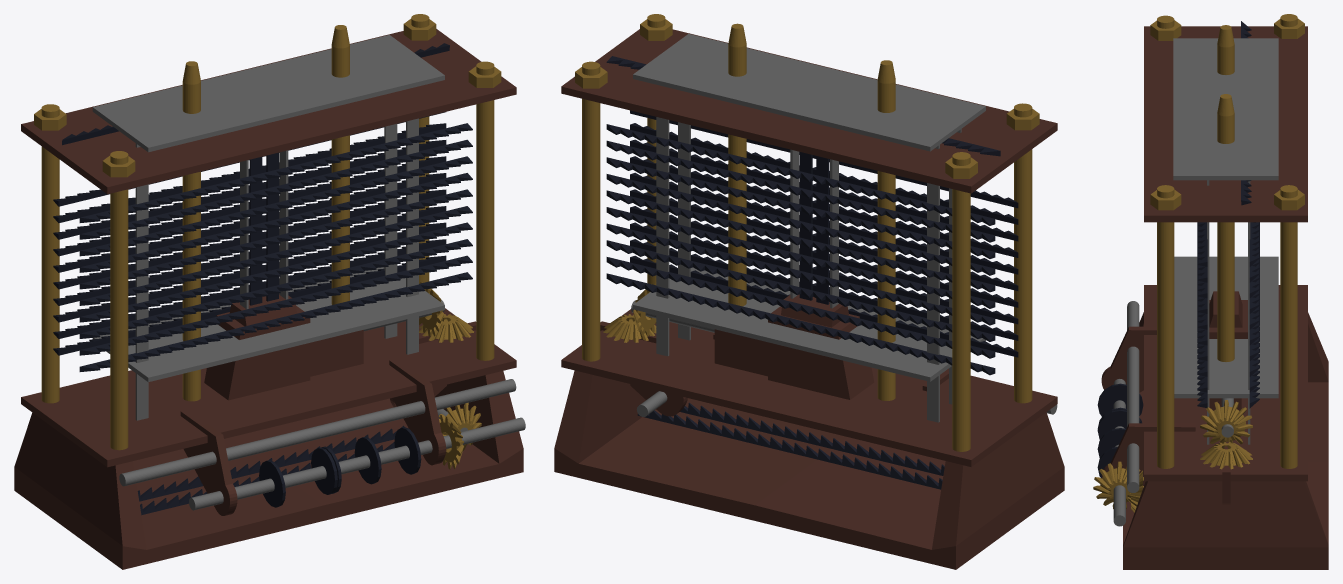
The model's file is AnalyticalEngine.fbx.
The picture shows the model from 3 angles, left to right: view 1: azimuth 30°, elevation 25°; view 2: azimuth 150°, elevation 25°; view 3: azimuth 270°, elevation 25°; orthographic projection. The views are drawn at different scales.
Parts seen in each view (by area): view 1: Cube, Plane.001, Cube.001, Plane, Cube.002, Cube.004, Cube.009, Cube.008, Cylinder.009, Cylinder.001, Cylinder, Cylinder.011 (+18 smaller); view 2: Cube, Plane, Cube.001, Plane.001, Cube.002, Cube.004, Cube.009, Cube.008, Cylinder.010, Cylinder.011, Cylinder.009, Cylinder.012 (+14 smaller); view 3: Cube, Cube.002, Cube.004, Cube.001, Cube.009, Cylinder.001, Cylinder.010, Gear.001, Cylinder.003, Plane.001, Cylinder.006, Plane (+12 smaller).
Boxes of the visible parts, x1,y1,x2,y2 form: Cube: (14, 371, 523, 569); Plane.001: (79, 123, 472, 371); Cube.001: (21, 308, 516, 467); Plane: (53, 112, 446, 355); Cube.002: (21, 29, 516, 194); Cube.004: (92, 35, 444, 152); Cube.009: (92, 267, 444, 382); Cube.008: (204, 293, 363, 400); Cylinder.009: (102, 151, 135, 450); Cylinder.001: (468, 61, 501, 360); Cylinder: (119, 379, 516, 486); Cylinder.011: (34, 104, 66, 403); Cube: (554, 370, 1064, 569); Plane: (606, 124, 995, 375); Cube.001: (561, 309, 1057, 466); Plane.001: (630, 110, 1018, 357); Cube.002: (561, 29, 1057, 193); Cube.004: (633, 34, 985, 151); Cube.009: (633, 267, 985, 381); Cube.008: (714, 294, 874, 399); Cylinder.010: (575, 61, 607, 361); Cylinder.011: (945, 152, 977, 451); Cylinder.009: (1006, 103, 1039, 403); Cylinder.012: (877, 60, 895, 400); Cube: (1123, 312, 1328, 569); Cube.002: (1144, 26, 1307, 222); Cube.004: (1173, 38, 1278, 180); Cube.001: (1144, 285, 1307, 481); Cube.009: (1174, 256, 1278, 398); Cylinder.001: (1150, 185, 1181, 468); Cylinder.010: (1274, 185, 1304, 468); Gear.001: (1093, 400, 1252, 512); Cylinder.003: (1217, 94, 1234, 361); Plane.001: (1197, 222, 1207, 408); Cylinder.006: (1097, 383, 1143, 478); Plane: (1249, 222, 1259, 408).
Size of the model in its own units: 441 by 444 by 229.
